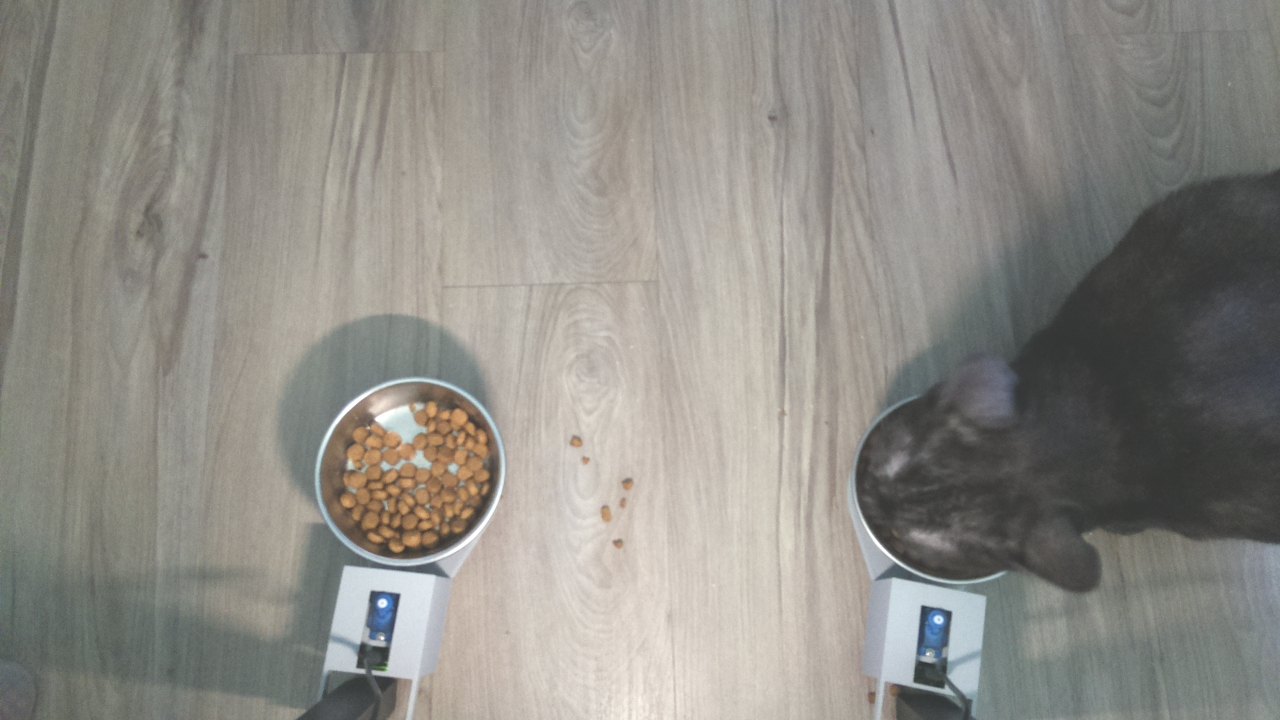open_bowl: (311, 375, 509, 569)
saki_eating: (842, 337, 1139, 592)
